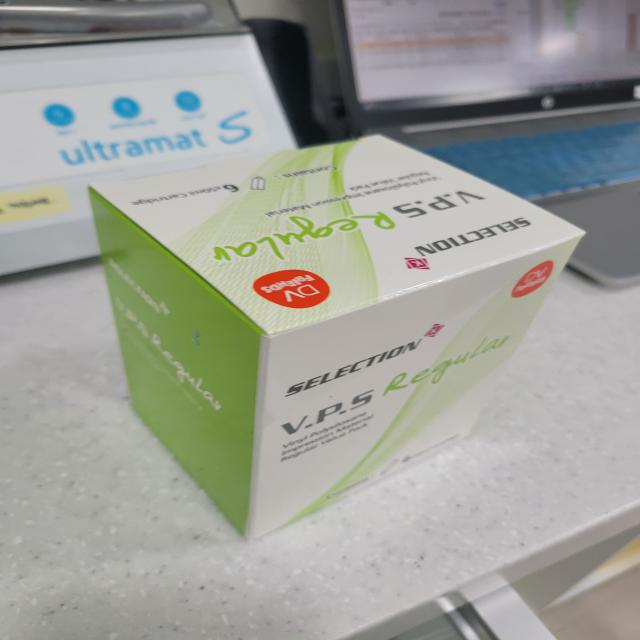impression: (66, 113, 594, 547)
